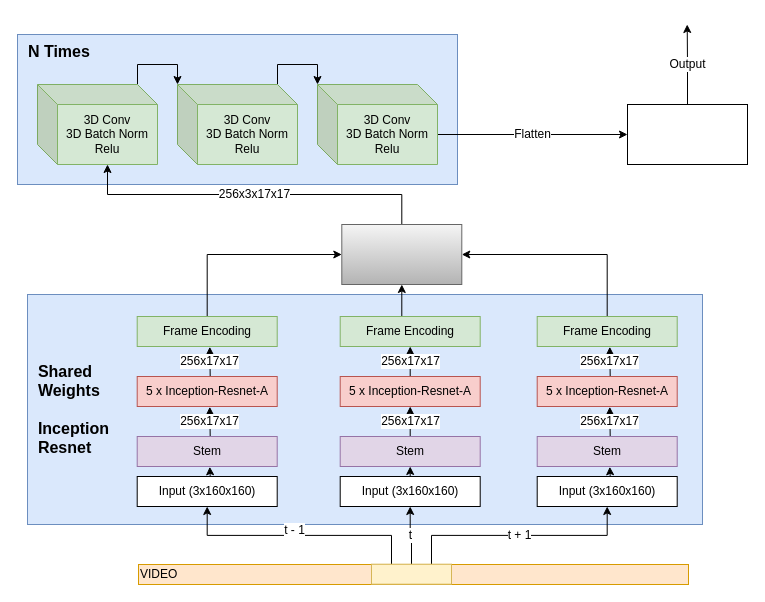
Image size: 765x602. Some labels were removed from this diagram. Here are the shapes that lost their labels. From the top down, the centre of each, then its label:
At point 687,134: "Linear".
At point 401,254: "Concatentation".
At point 411,573: "WINDOW".
